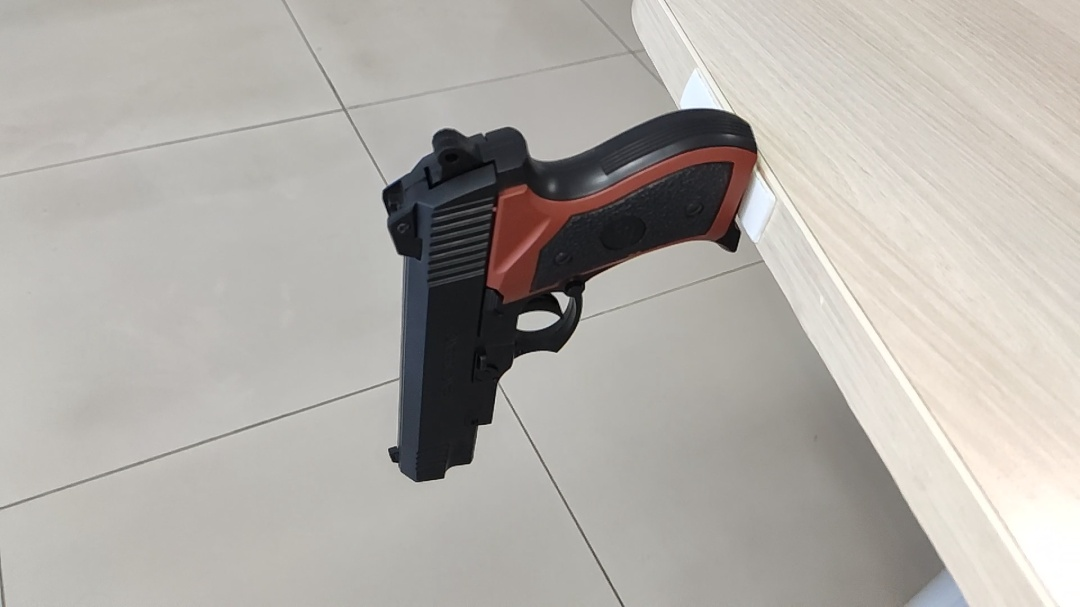gun: (247, 181, 490, 312)
